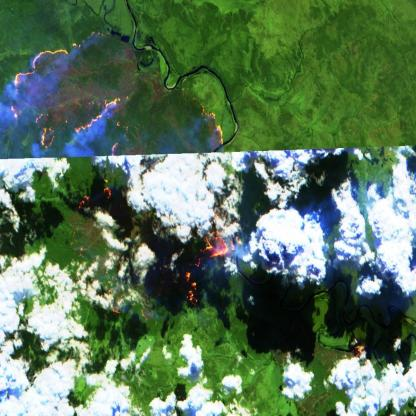fire: (8, 25, 226, 160), (182, 206, 239, 311), (75, 170, 117, 212), (348, 330, 373, 376)
